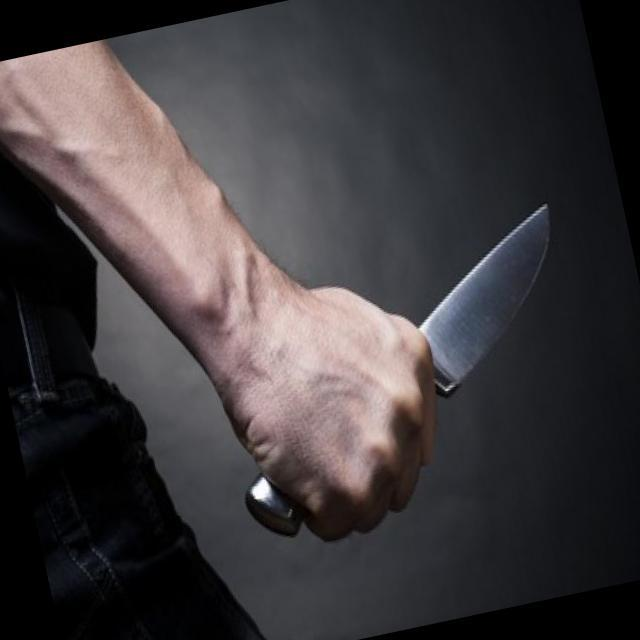Knife: (249, 183, 612, 536)
